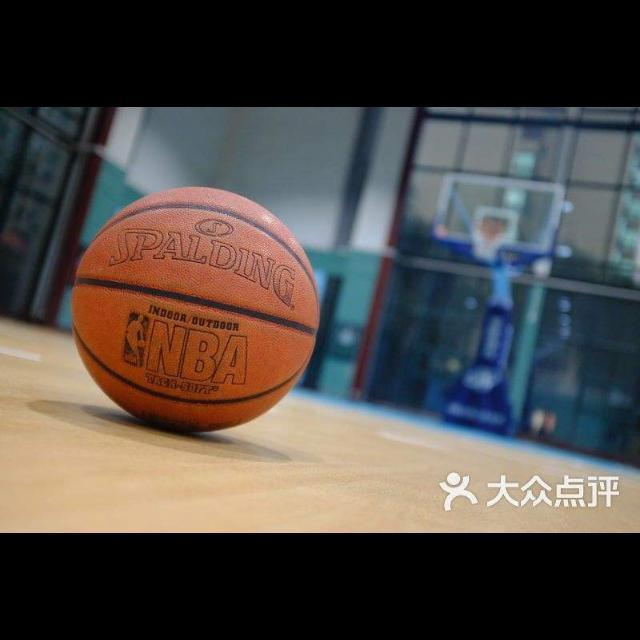basketball: (73, 188, 319, 430)
